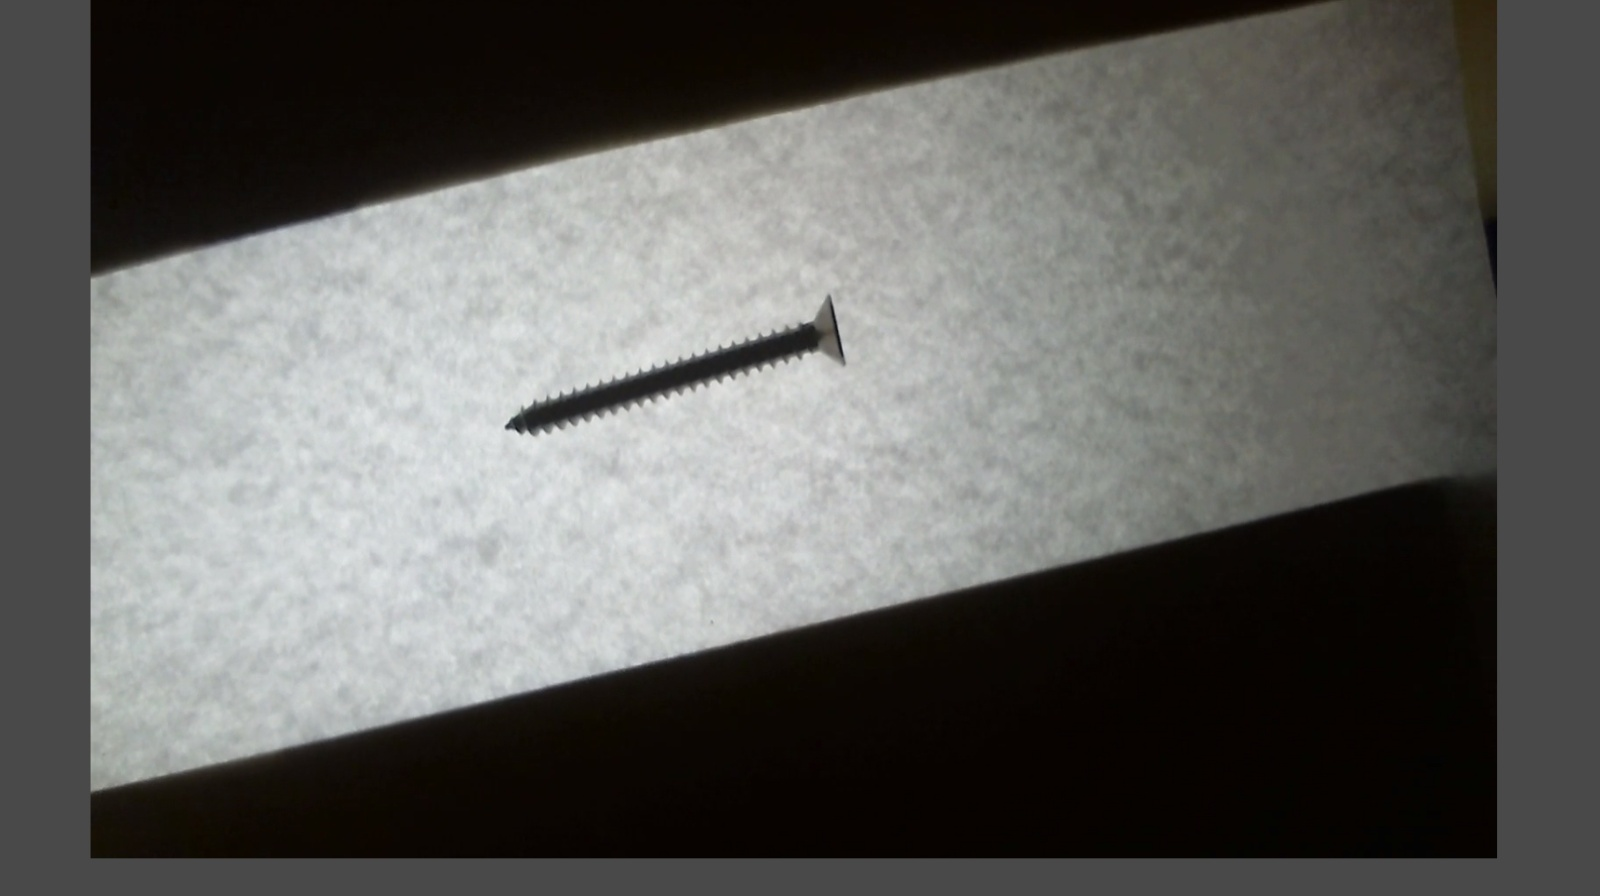S002: (502, 292, 843, 438)
